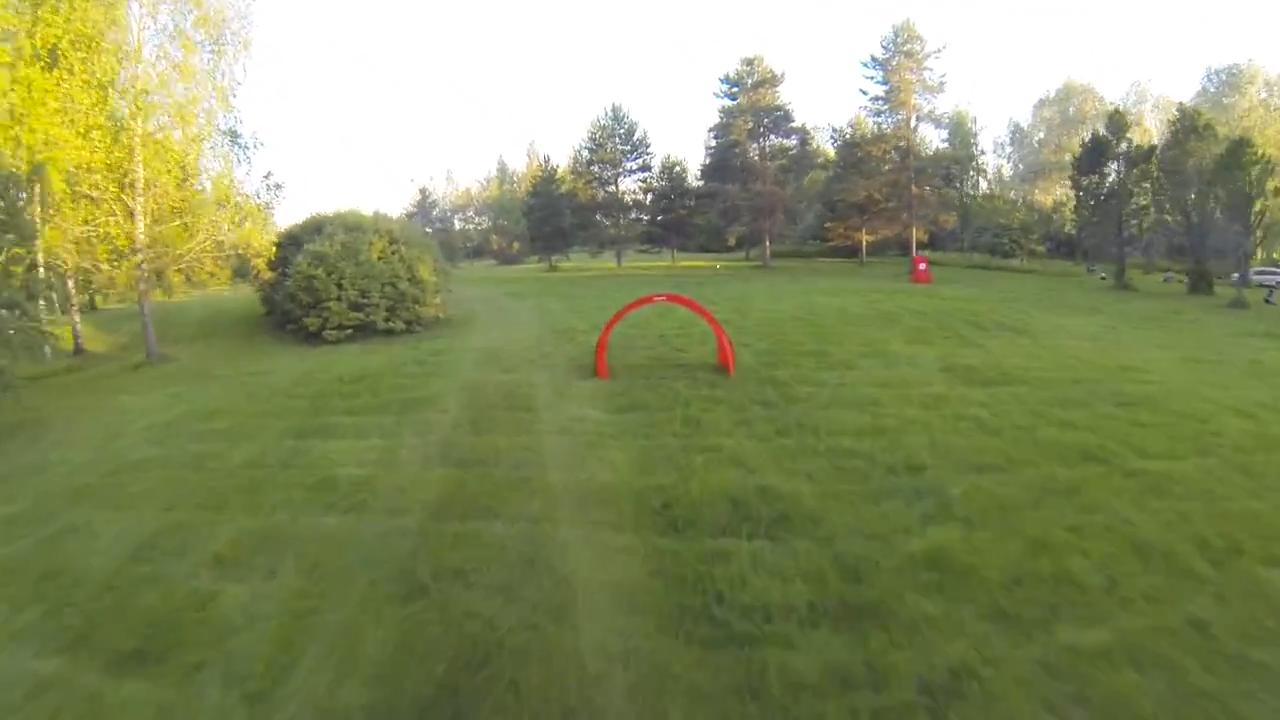gate: (585, 289, 742, 382)
